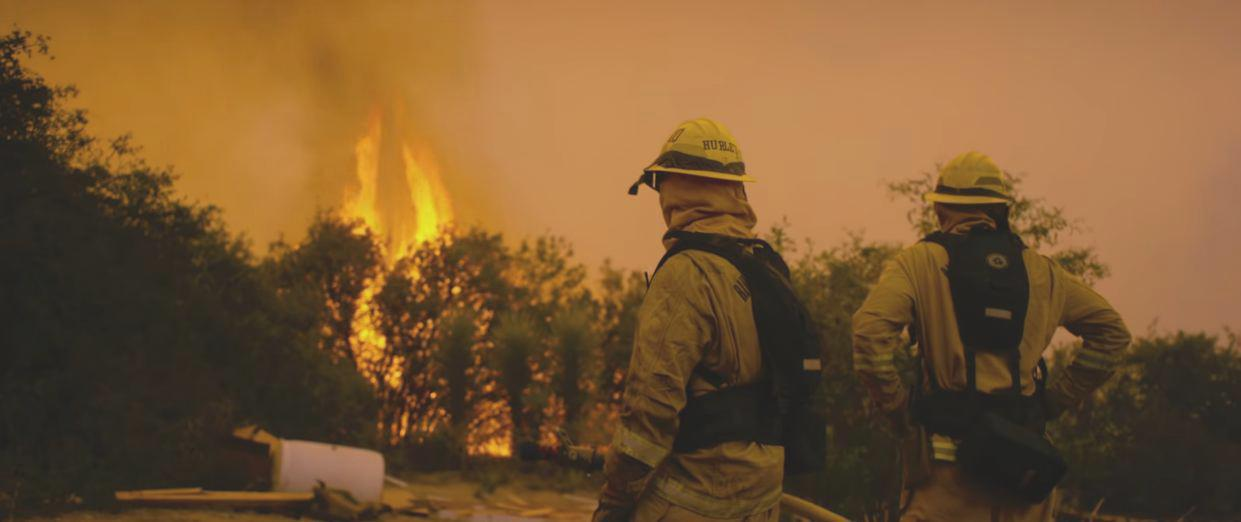fire: (336, 125, 448, 403)
